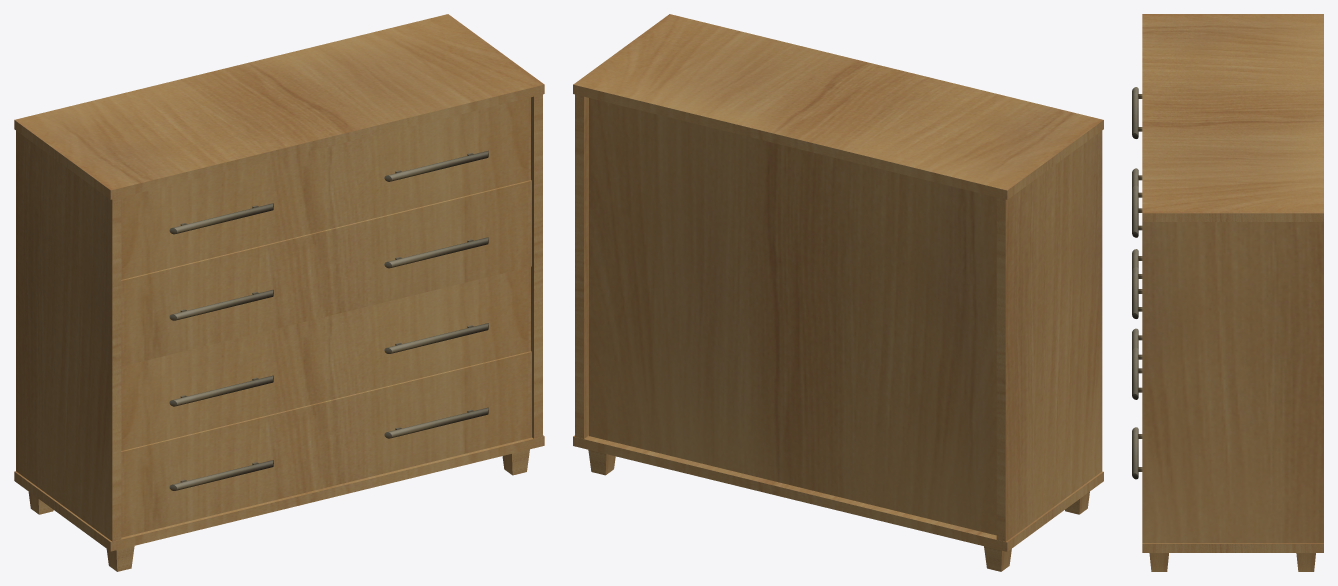
The model's file is tumba_fur.fbx.
3 views of the same model, side by side, from view 1: azimuth 30°, elevation 25°; view 2: azimuth 150°, elevation 25°; view 3: azimuth 270°, elevation 25° (orthographic). The views are drawn at different scales.
Visible parts, largest first — view 1: tumba_fur; view 2: tumba_fur; view 3: tumba_fur.
Part boxes in pixels (x1,y1,x2,y2): tumba_fur: (14, 14, 544, 571); tumba_fur: (573, 14, 1103, 571); tumba_fur: (1132, 14, 1323, 571).
Size of the model in its own units: 1.45 by 1.24 by 0.5901.
